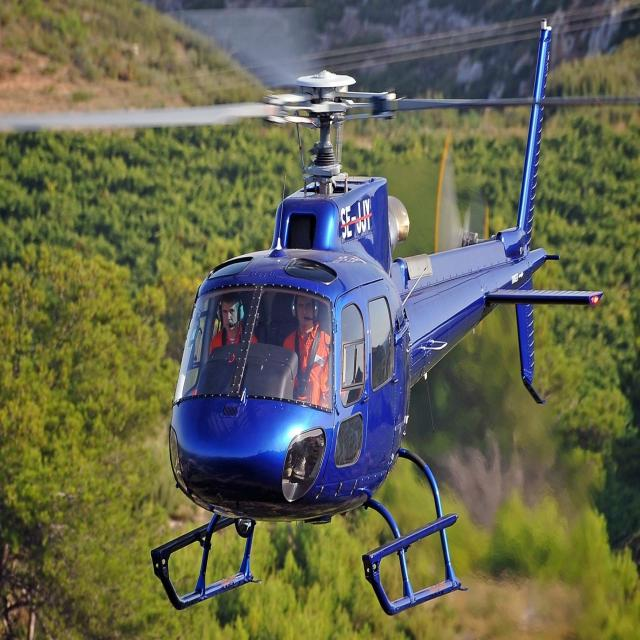helicopter: (2, 52, 605, 612)
